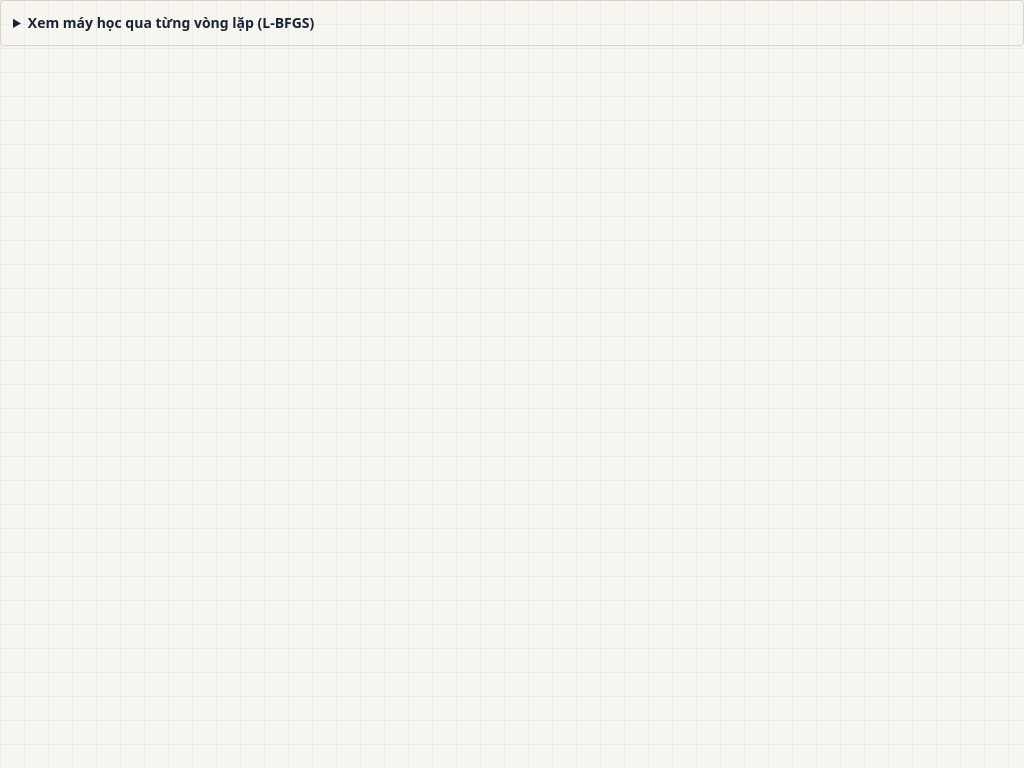
Test case: LogisticGrowth: hình dạng tự nhiên của hàng trọng số › 2 lớp: một hàng nghiêng về lớp thứ 2, renderRow nhận đúng lớp và tiêu đề
Click the heading "Xem máy học qua từng vòng lặp (L-BFGS)" at (171, 22), box [28, 13, 314, 32]
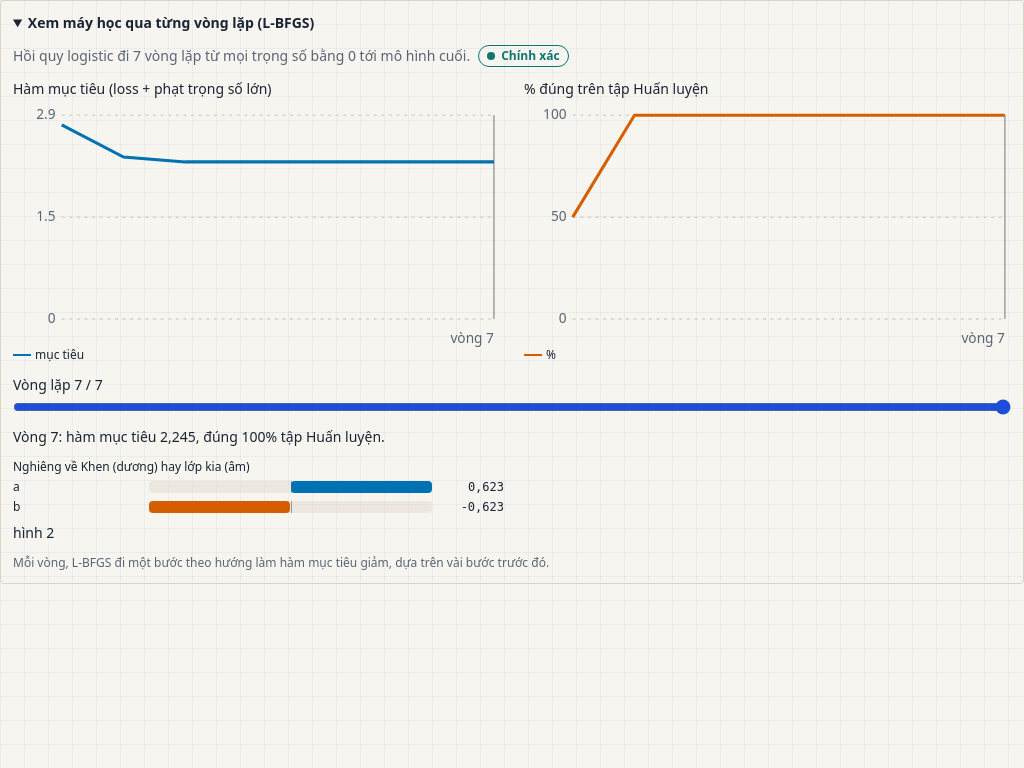
Expected: the element with test id "logistic-shape-0" reads "hình 2", [13, 522, 54, 542]
